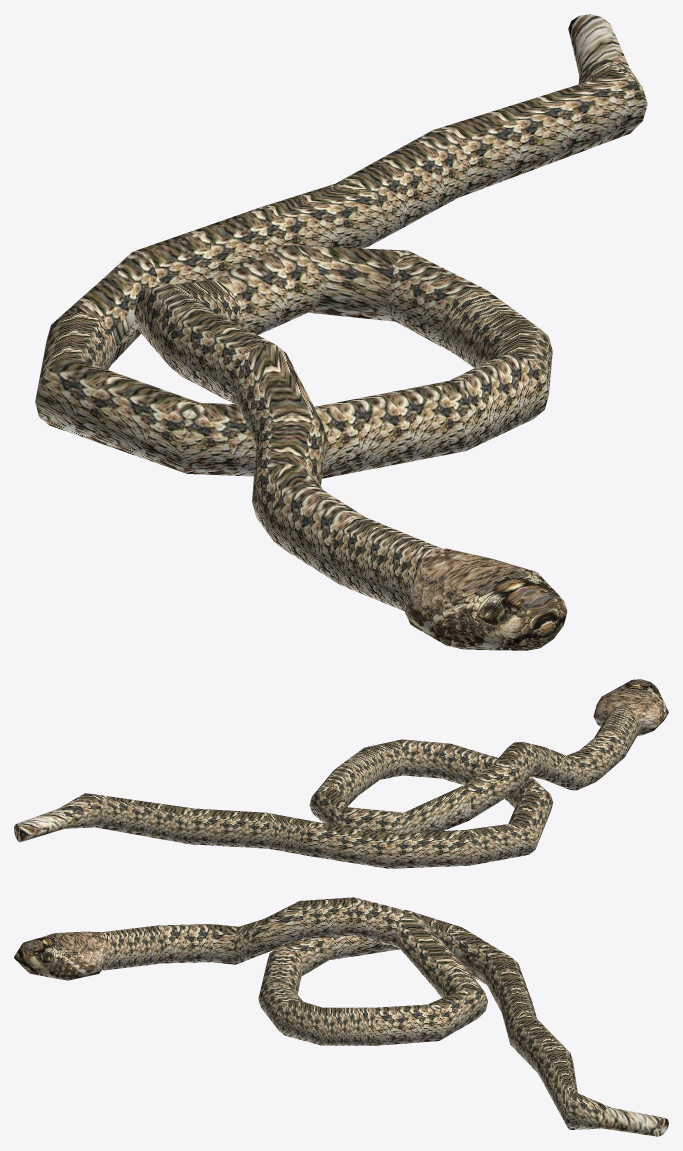
The model's file is snake_dead.fbx.
3 renders of one model, top to bottom at view 1: azimuth 30°, elevation 25°; view 2: azimuth 150°, elevation 25°; view 3: azimuth 270°, elevation 25°, orthographic. The views are drawn at different scales.
Visible parts, largest first — view 1: Cylinder12, Cylinder13; view 2: Cylinder12, Cylinder13; view 3: Cylinder12, Cylinder13.
Part boxes in pixels (x1,y1,x2,y2): Cylinder12: (35, 14, 647, 611); Cylinder13: (405, 548, 567, 650); Cylinder12: (14, 708, 640, 868); Cylinder13: (593, 679, 668, 735); Cylinder12: (101, 897, 668, 1136); Cylinder13: (14, 931, 107, 980).
Bounding box in the file's own units: 6.9 × 1.09 × 9.07.
1 material, 1 textured.
